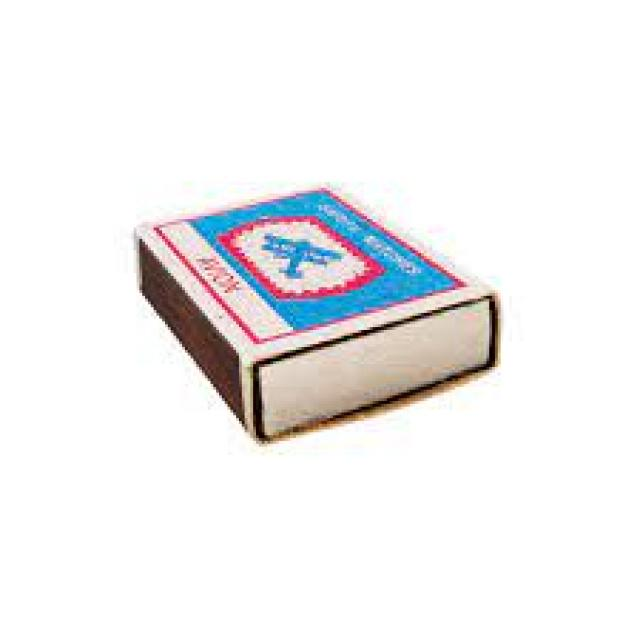match: (132, 178, 506, 450)
